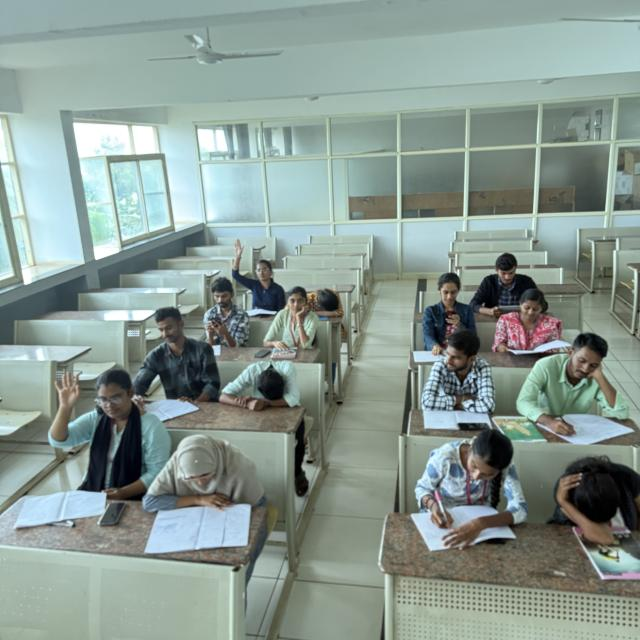Hand Rising: (43, 359, 157, 498), (231, 238, 281, 306)
Reading: (143, 421, 256, 556), (143, 305, 208, 413), (488, 295, 582, 357), (470, 253, 550, 321)
Sleeping: (547, 453, 640, 536), (218, 355, 302, 407), (302, 278, 346, 320)
Using Phone: (420, 270, 478, 339), (200, 272, 248, 342)
Writing: (518, 334, 630, 439), (411, 430, 516, 540)
